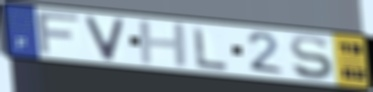2: (246, 30, 287, 78)
F: (35, 11, 83, 56)
H: (136, 20, 192, 69)
L: (191, 25, 231, 72)
S: (287, 34, 336, 82)
V: (82, 15, 128, 63)
